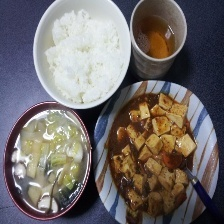rice: (44, 9, 121, 102)
